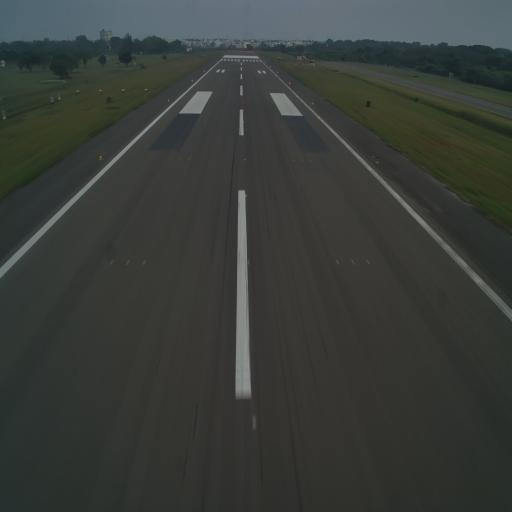off: (124, 255, 132, 270), (348, 255, 357, 268), (107, 255, 115, 269), (372, 154, 379, 166), (334, 257, 340, 268), (141, 258, 147, 268), (366, 256, 371, 268), (309, 156, 313, 164), (300, 157, 304, 164), (292, 157, 296, 163), (178, 156, 182, 161), (187, 156, 190, 162), (243, 134, 246, 140), (169, 156, 173, 160)
on: (250, 412, 260, 432), (246, 255, 252, 271), (243, 188, 250, 200), (98, 155, 103, 163), (243, 156, 248, 162)
